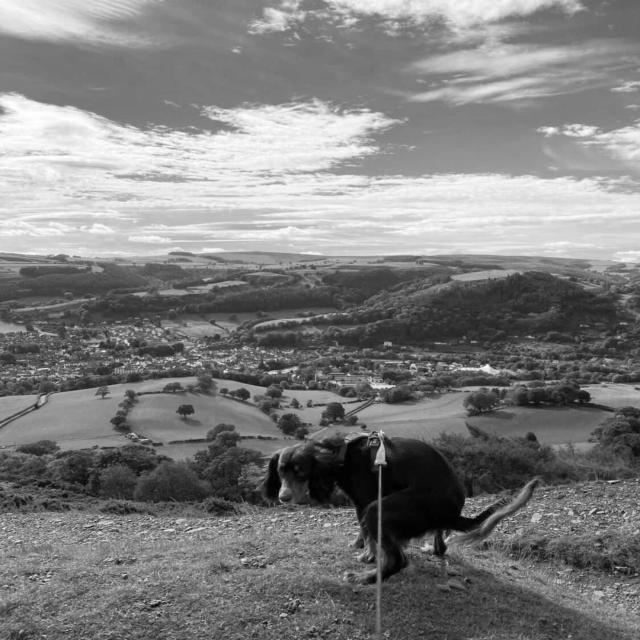squatting: (250, 422, 543, 587)
